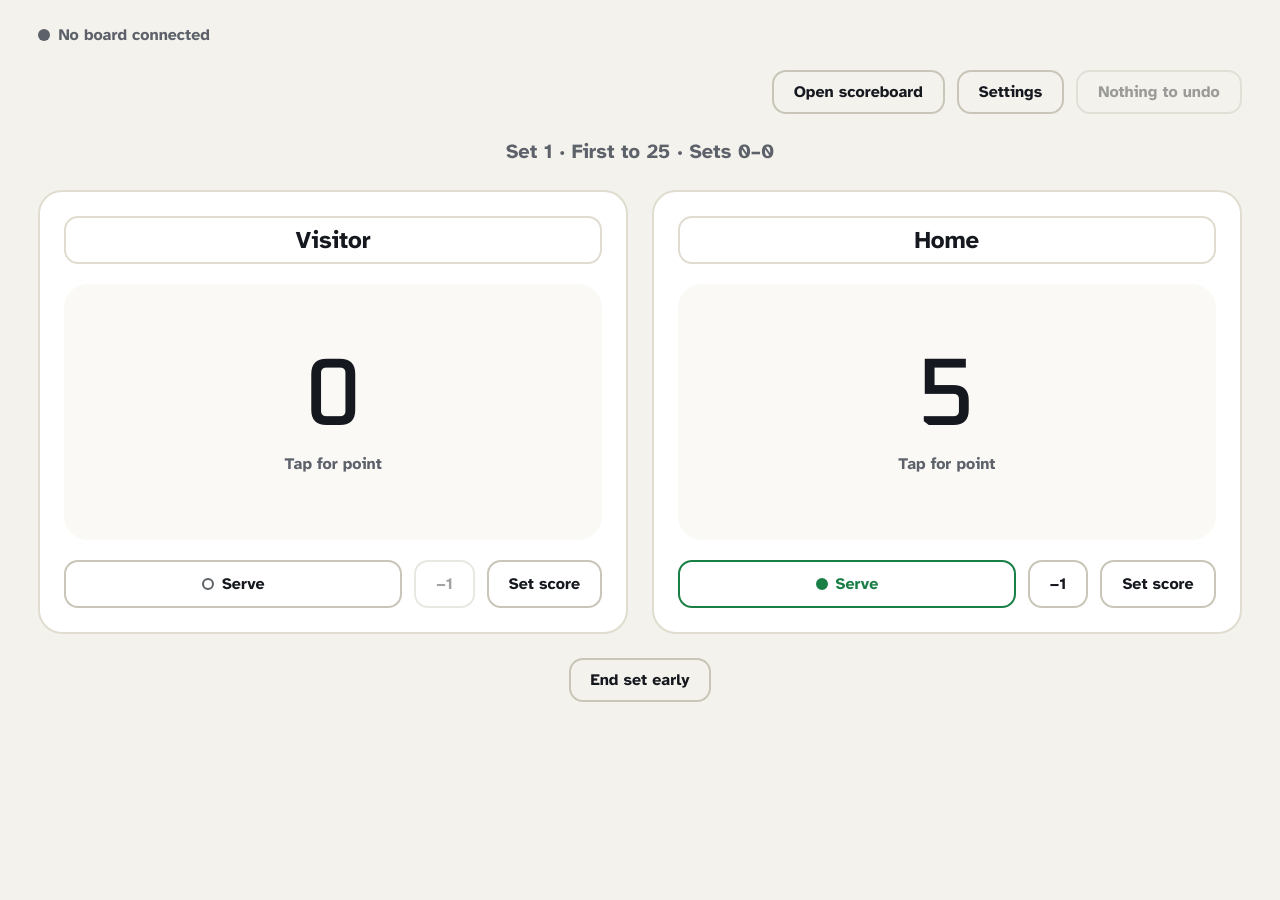
it: VolleyballConsole › −1 › shows the lower score at once and commits once after 1s
Step 1. Click the 2nd button "−1" → (1058, 584), box [1028,560,1088,608]
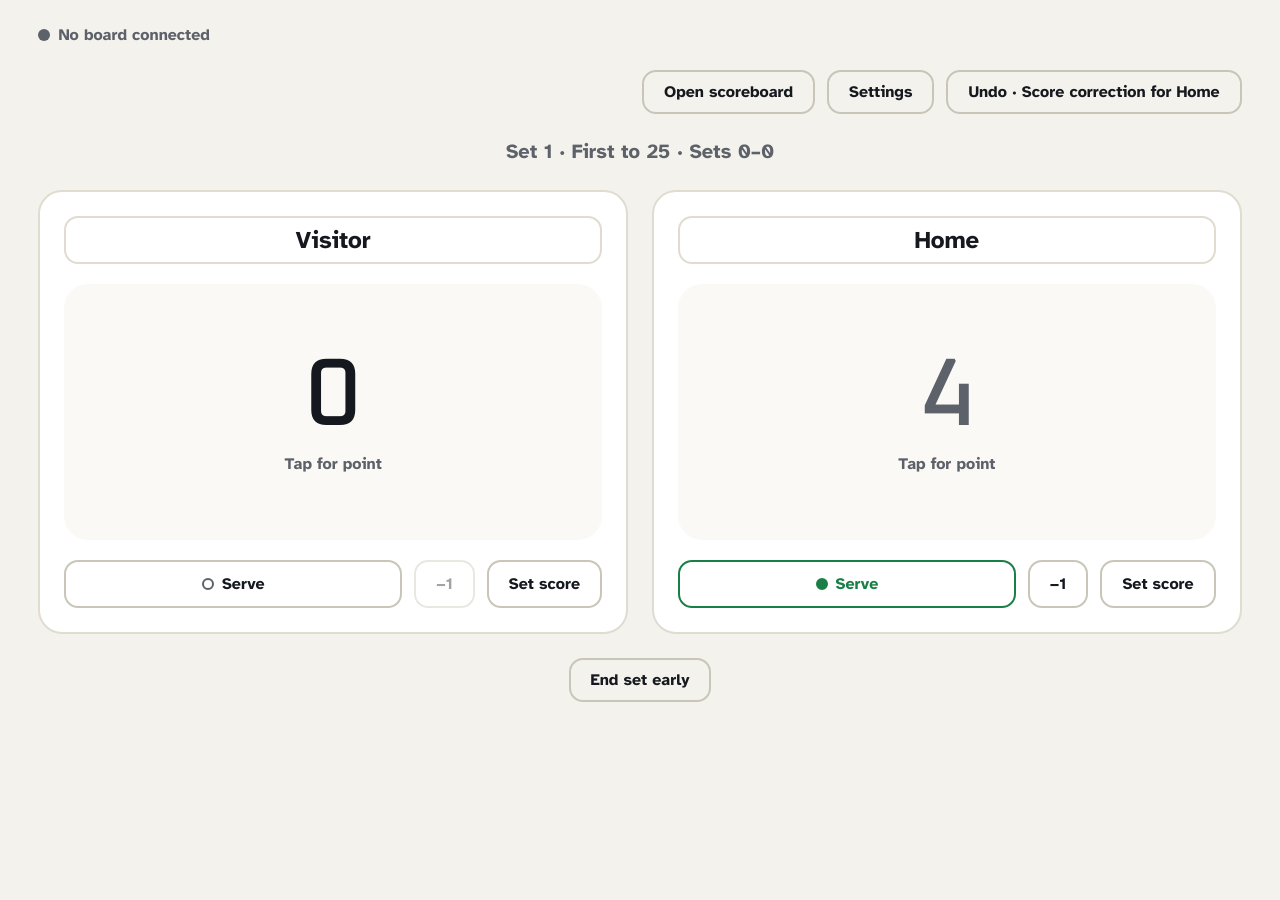
Step 2. Click the 2nd button "−1" → (1058, 584), box [1028,560,1088,608]
Wait 1000 ms
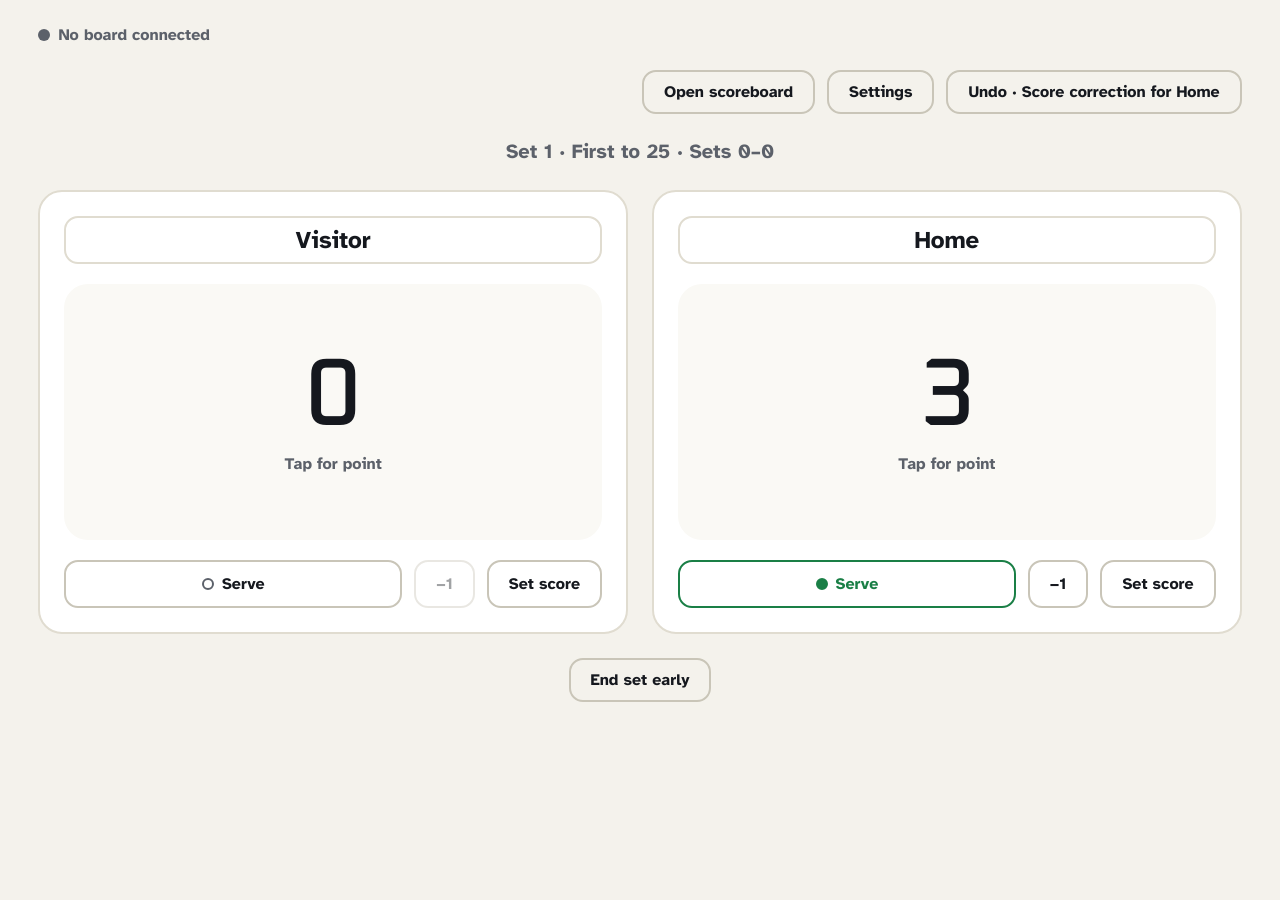
Check: the text named "Home score" reads "3", box [919,349,974,445]
